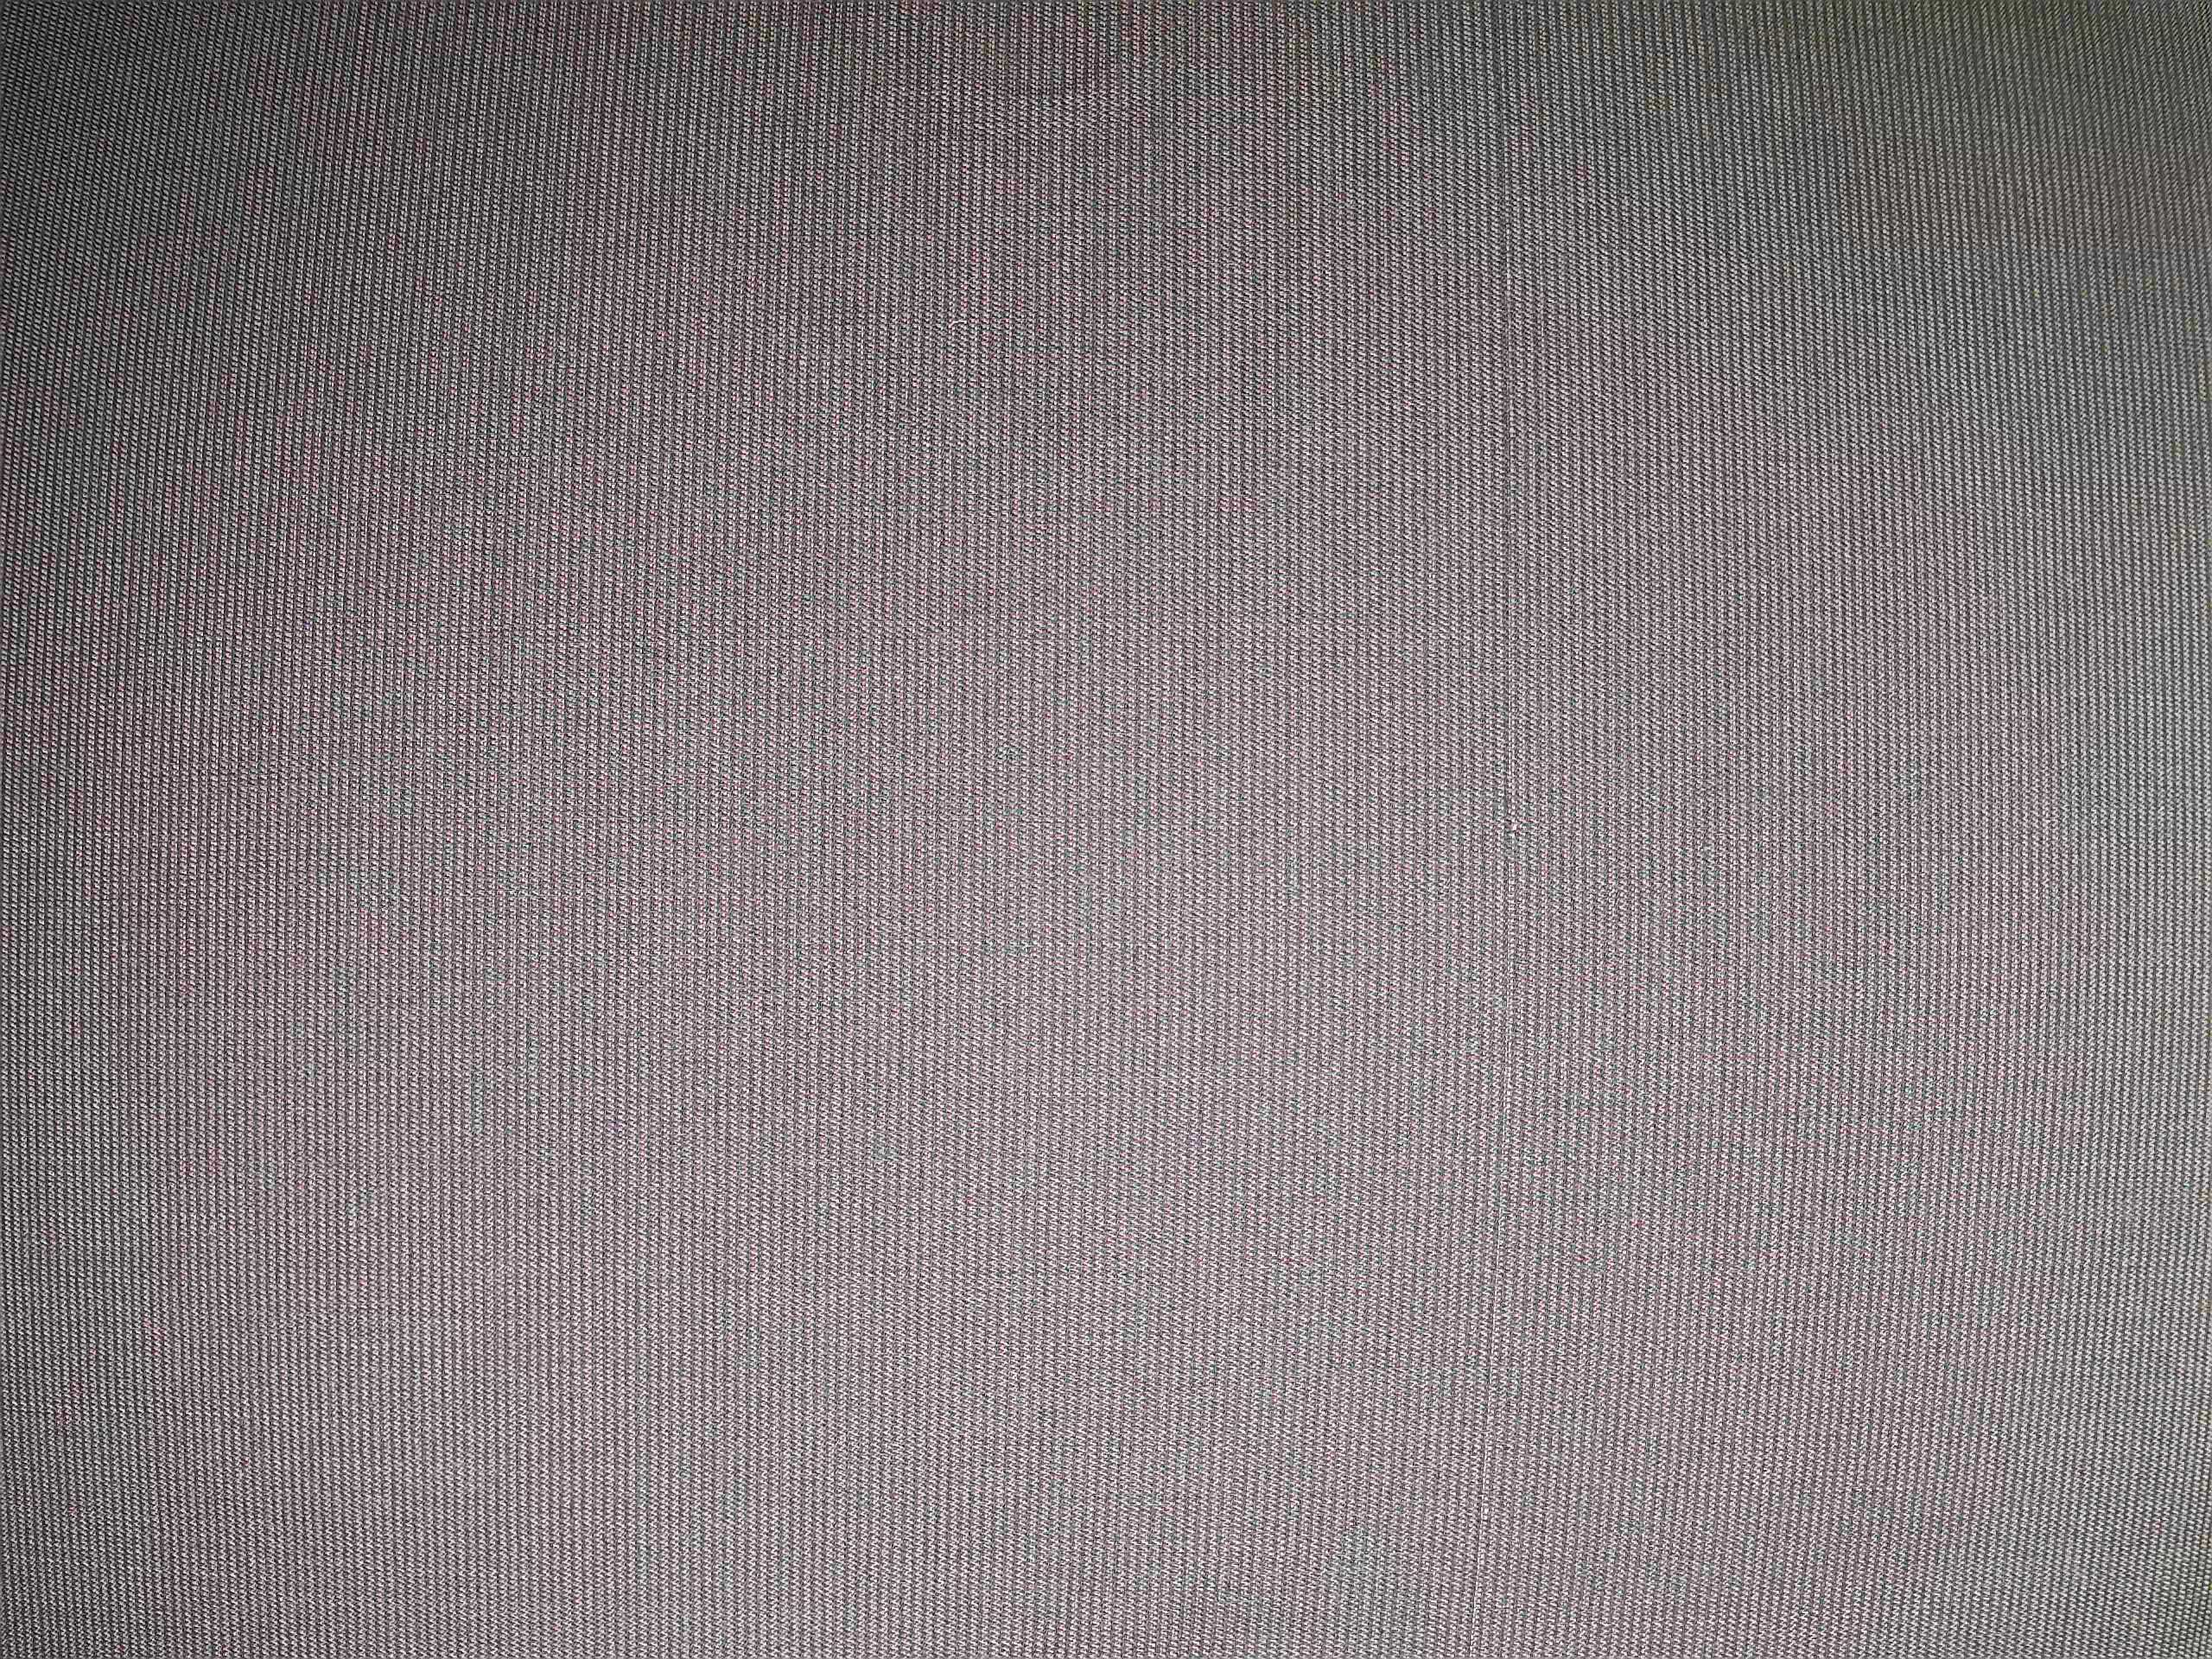hanging-warp: (1484, 0, 1529, 586)
